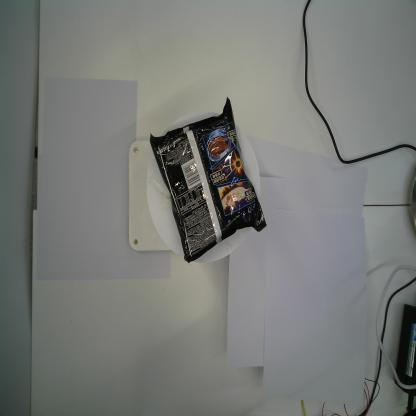Instant Noodles: (150, 97, 267, 263)
